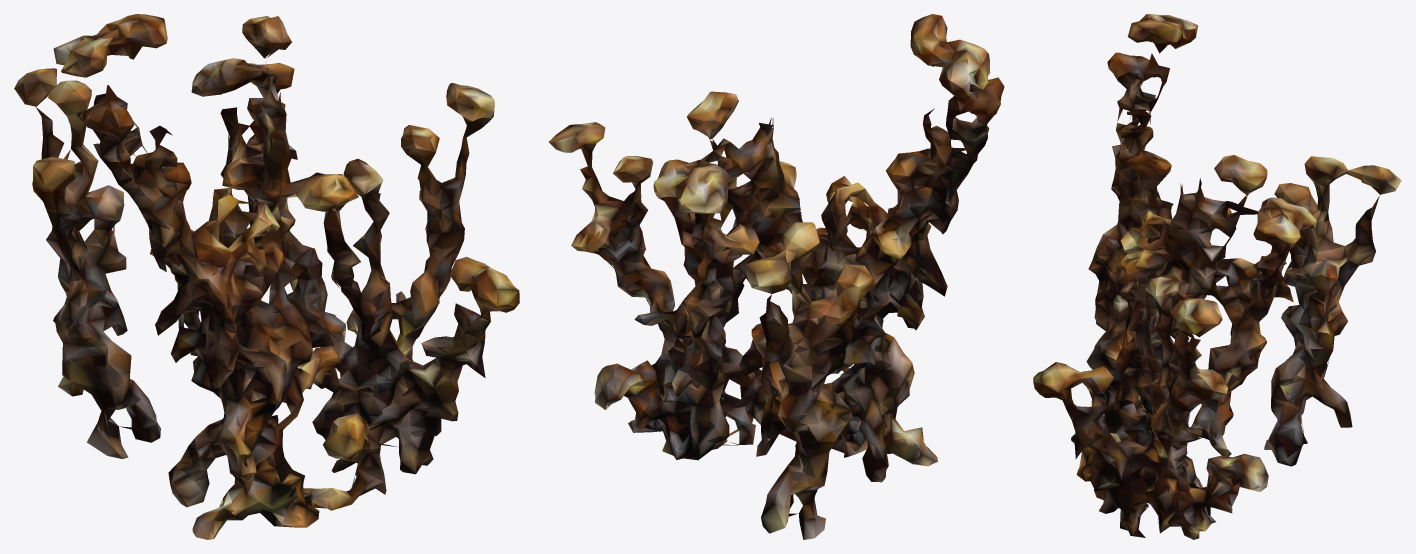
The model's file is onethistletest.fbx.
The picture shows the model from 3 angles, left to right: view 1: azimuth 30°, elevation 25°; view 2: azimuth 150°, elevation 25°; view 3: azimuth 270°, elevation 25°; orthographic projection. The views are drawn at different scales.
Parts seen in each view (by area): view 1: vegetation_downsampled.001; view 2: vegetation_downsampled.001; view 3: vegetation_downsampled.001.
Part boxes in pixels (<box>): vegetation_downsampled.001: <box>14,14,519,539</box>; vegetation_downsampled.001: <box>549,14,1004,539</box>; vegetation_downsampled.001: <box>1033,14,1401,539</box>.
Bounding box in the file's own units: 53.51 × 57.81 × 47.14.
